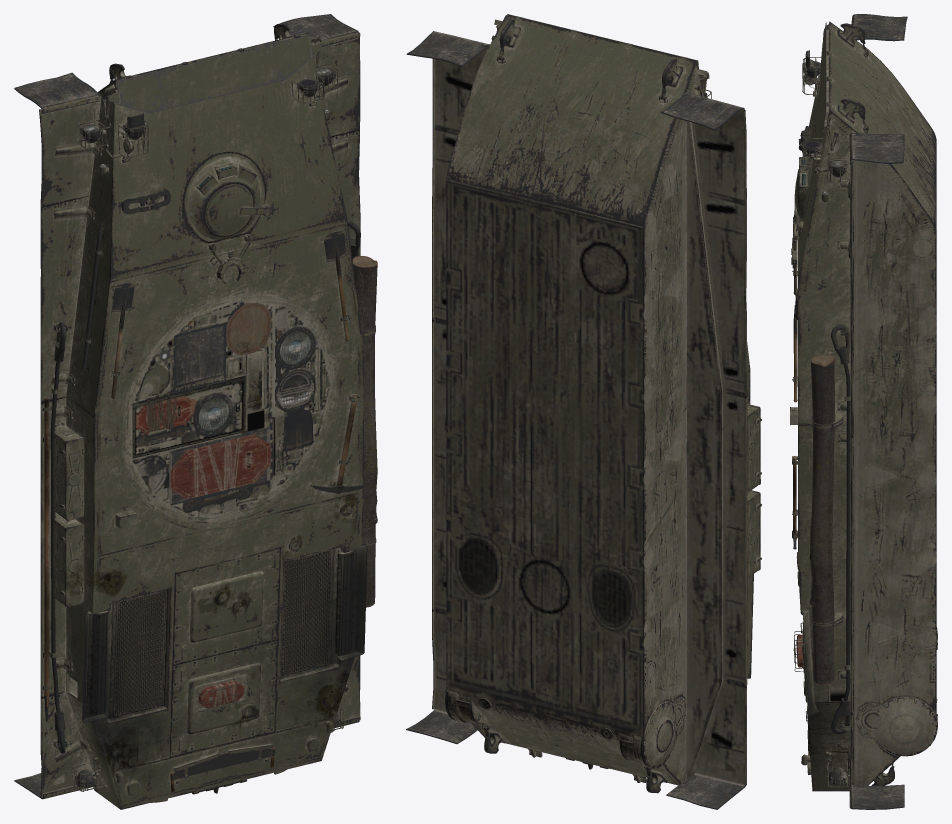
File: Hull.glb
3 renders of one model, left to right at view 1: azimuth 30°, elevation 25°; view 2: azimuth 150°, elevation 25°; view 3: azimuth 270°, elevation 25°, orthographic. The views are drawn at different scales.
Visible parts, largest first — view 1: set_0_group_0; view 2: set_0_group_0; view 3: set_0_group_0.
Boxes of the visible parts, x1=… form: set_0_group_0: x1=14, y1=14, x2=377, y2=809; set_0_group_0: x1=406, y1=14, x2=761, y2=809; set_0_group_0: x1=790, y1=14, x2=937, y2=809.
Bounding box in the file's own units: 3.2 × 7.06 × 1.36.
Materials: 1 (1 with a texture image).
